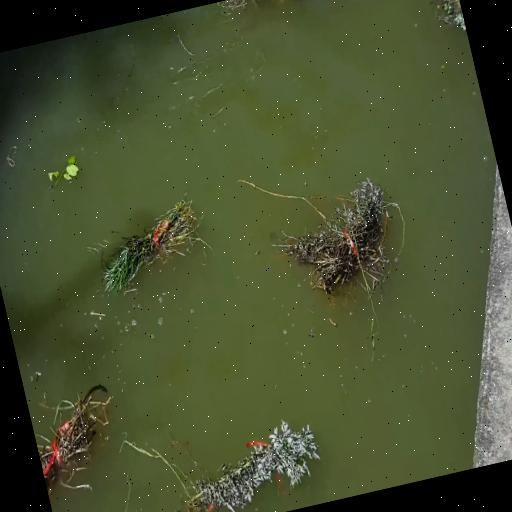twig: (154, 418, 330, 512), (76, 194, 212, 310), (292, 182, 412, 312), (25, 374, 128, 498), (209, 0, 323, 25), (44, 146, 91, 202), (428, 0, 468, 44)
